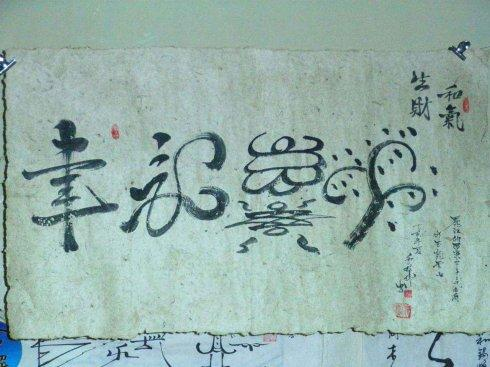chinese: (406, 60, 478, 132)
naxi: (13, 116, 441, 255)
